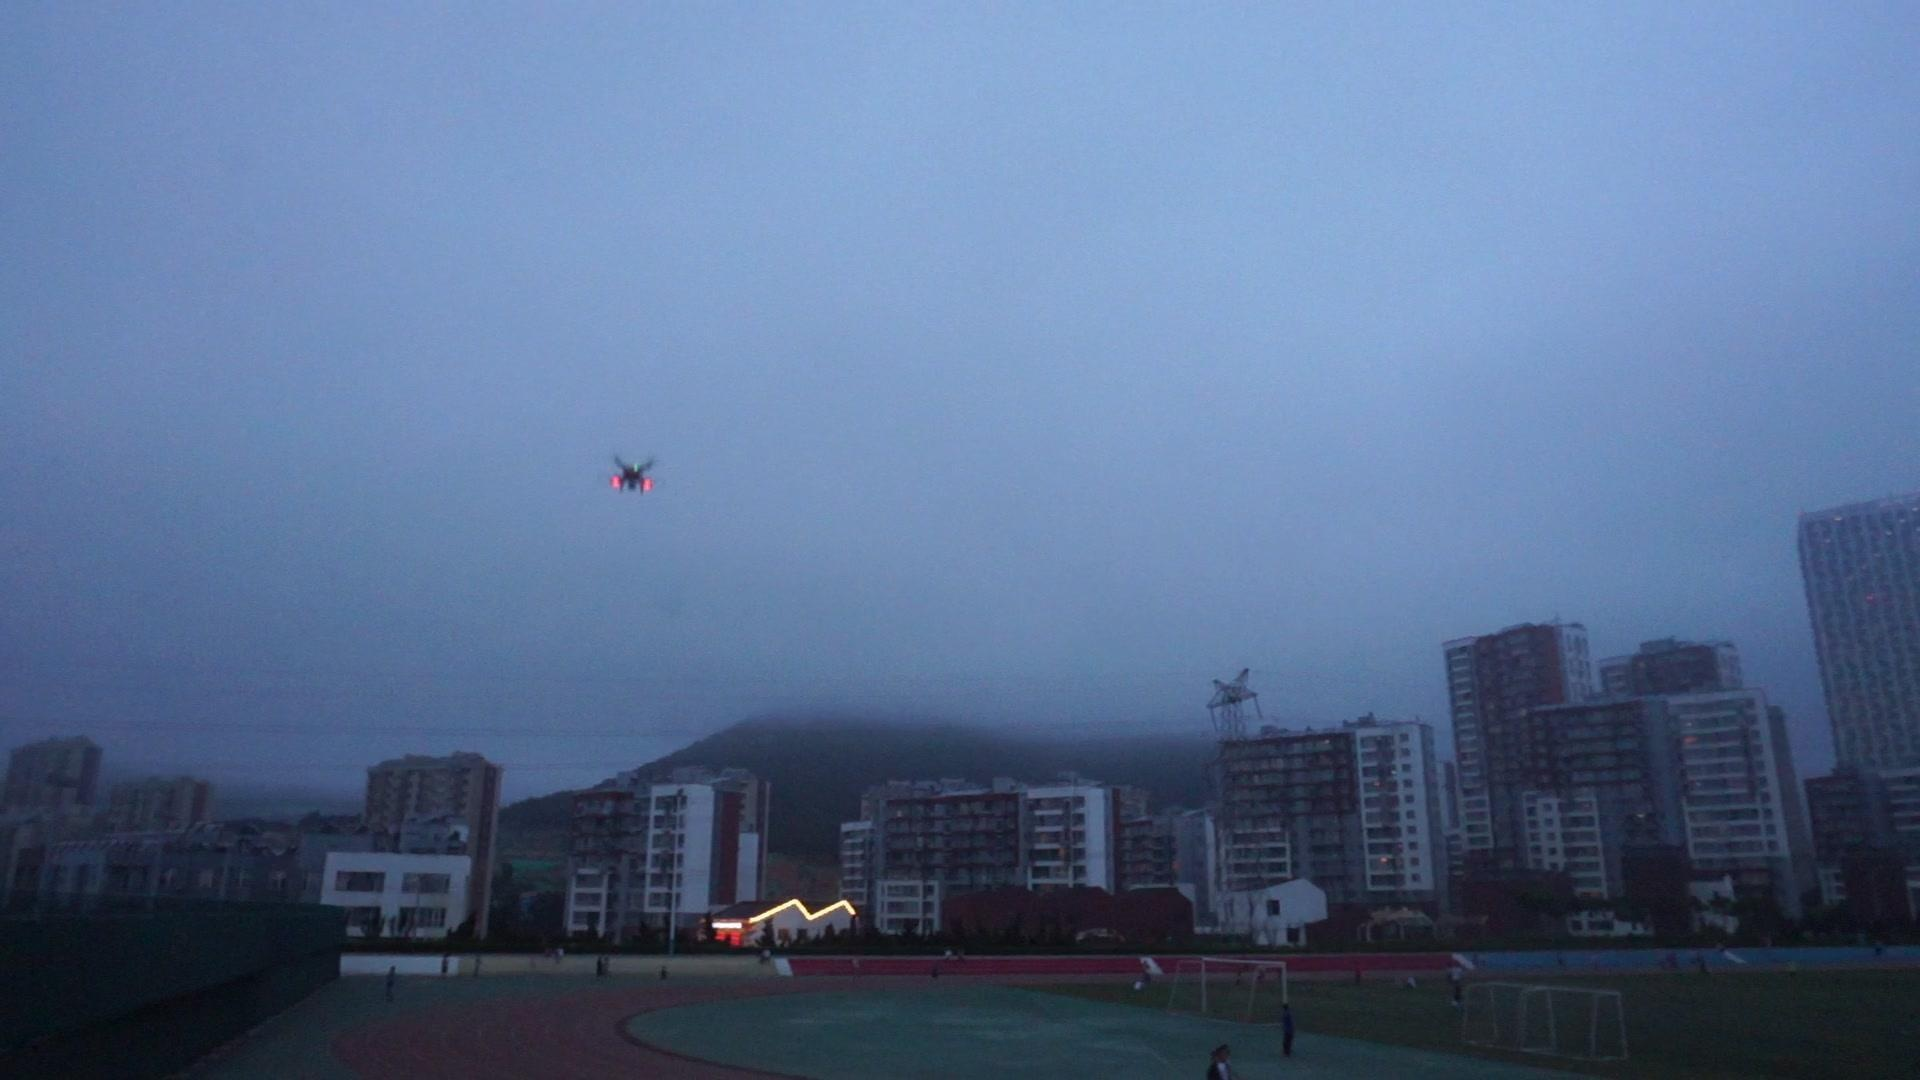UAV: (611, 456, 655, 496)
